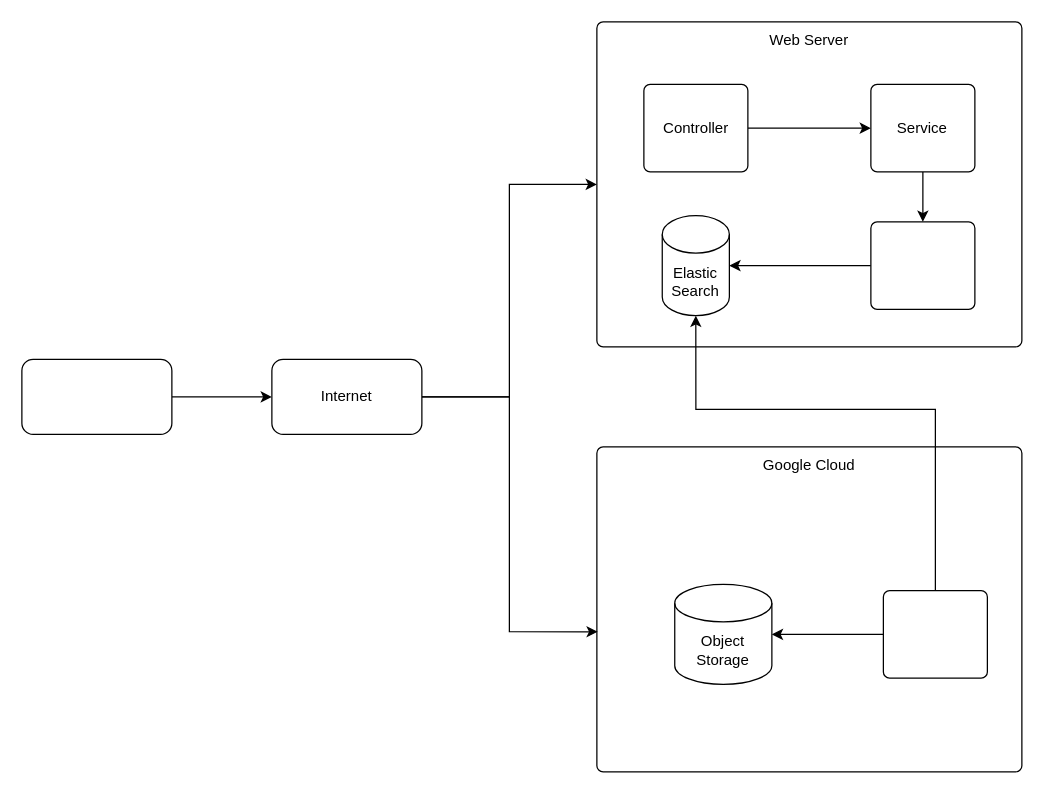
The diagram is 1044 pixels wide and 794 high, and some of its shapes have lost their labels. The shapes that lost their labels are listed below. From the top down, each one's centre as x and y in pixels, then its label:
At (922,265): "DAO".
At (96,396): "Web Client(PC and Mobile)".
At (934,633): "Data Ingestion".
